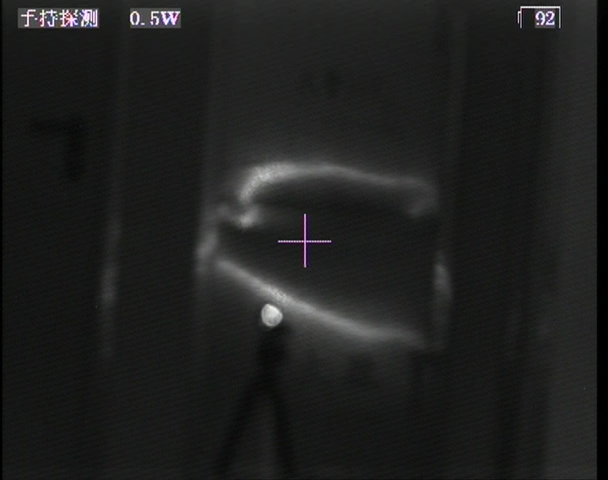my: (260, 302, 286, 328)
